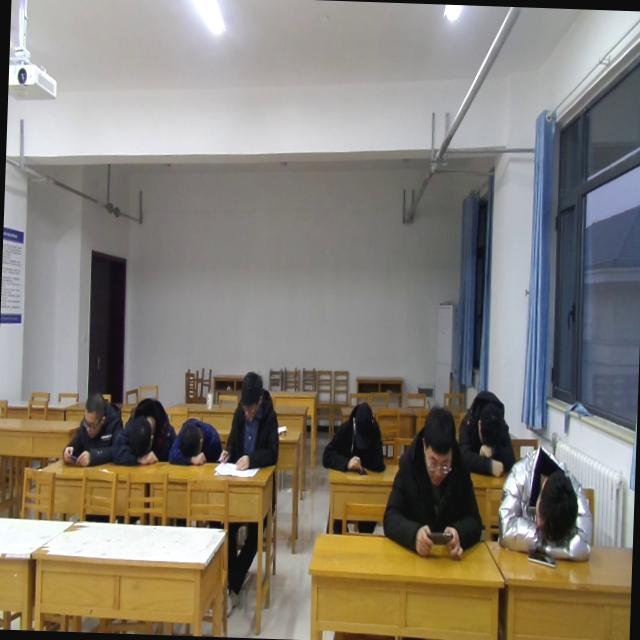bow: (496, 444, 600, 570), (456, 384, 521, 482), (60, 383, 125, 469), (320, 399, 389, 478), (110, 391, 178, 468), (168, 412, 224, 469)
down: (417, 401, 460, 486), (236, 366, 264, 422), (346, 396, 376, 443), (80, 386, 106, 437)
sit: (378, 402, 488, 570), (215, 365, 283, 472)
